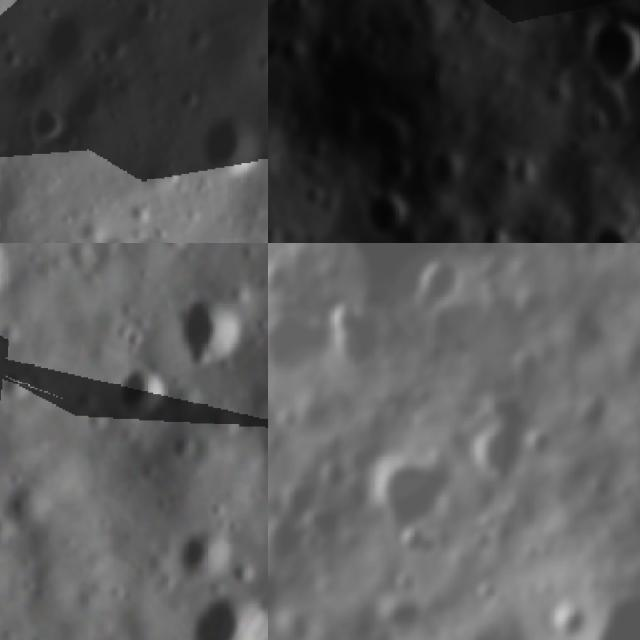crater: (165, 288, 261, 391), (176, 99, 268, 200), (20, 0, 110, 91), (374, 456, 452, 530), (177, 583, 268, 640), (321, 299, 390, 374), (167, 520, 239, 590), (268, 299, 329, 381), (15, 96, 80, 161), (576, 86, 640, 145), (587, 20, 640, 91), (60, 78, 121, 139), (116, 368, 176, 428), (353, 191, 419, 243), (579, 589, 640, 640), (411, 256, 458, 317), (540, 593, 588, 640), (481, 427, 523, 480), (570, 388, 610, 437), (272, 481, 318, 520), (0, 365, 38, 410), (501, 286, 547, 321), (107, 225, 193, 243), (167, 428, 205, 467), (268, 526, 308, 560), (445, 7, 482, 39), (585, 469, 612, 506), (268, 261, 293, 300), (324, 457, 348, 493), (268, 575, 285, 624), (218, 227, 268, 243), (592, 226, 629, 243), (392, 571, 419, 594), (475, 512, 499, 536), (528, 431, 550, 456), (275, 405, 294, 433), (468, 407, 489, 432), (467, 536, 494, 555), (521, 540, 543, 562), (477, 583, 500, 604), (460, 355, 477, 376), (611, 243, 637, 255)
